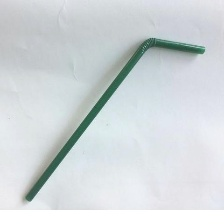drinking_straw: (19, 31, 211, 207)
